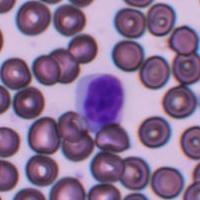L: (75, 72, 127, 132)
